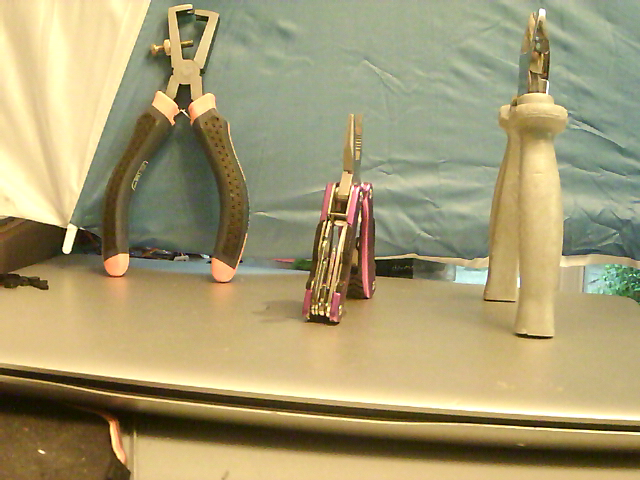pliers: (482, 1, 571, 341), (298, 106, 381, 326)
